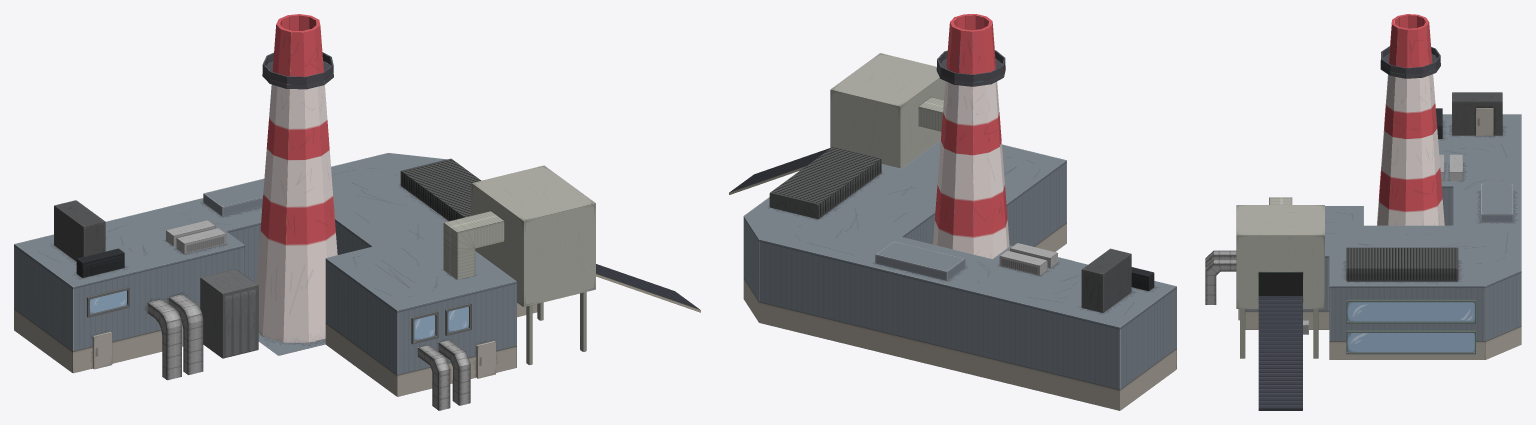
File: Factory.fbx
3 renders of one model, left to right at view 1: azimuth 30°, elevation 25°; view 2: azimuth 150°, elevation 25°; view 3: azimuth 270°, elevation 25°, orthographic. The views are drawn at different scales.
Parts seen in each view (by area): view 1: Factory; view 2: Factory; view 3: Factory.
Boxes of the visible parts, x1,y1,x2,y2 form: Factory: (14, 14, 700, 410); Factory: (729, 14, 1176, 410); Factory: (1205, 14, 1521, 410).
Bounding box in the file's own units: 3320 × 1856 × 1994.
Materials: 1 (1 with a texture image).
